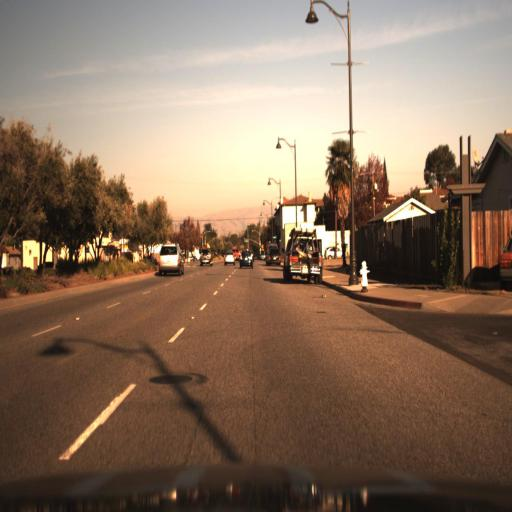car: (284, 218, 327, 282), (149, 227, 189, 281), (198, 238, 220, 269), (237, 243, 258, 274), (265, 241, 284, 270), (324, 240, 347, 261), (223, 244, 239, 268)
